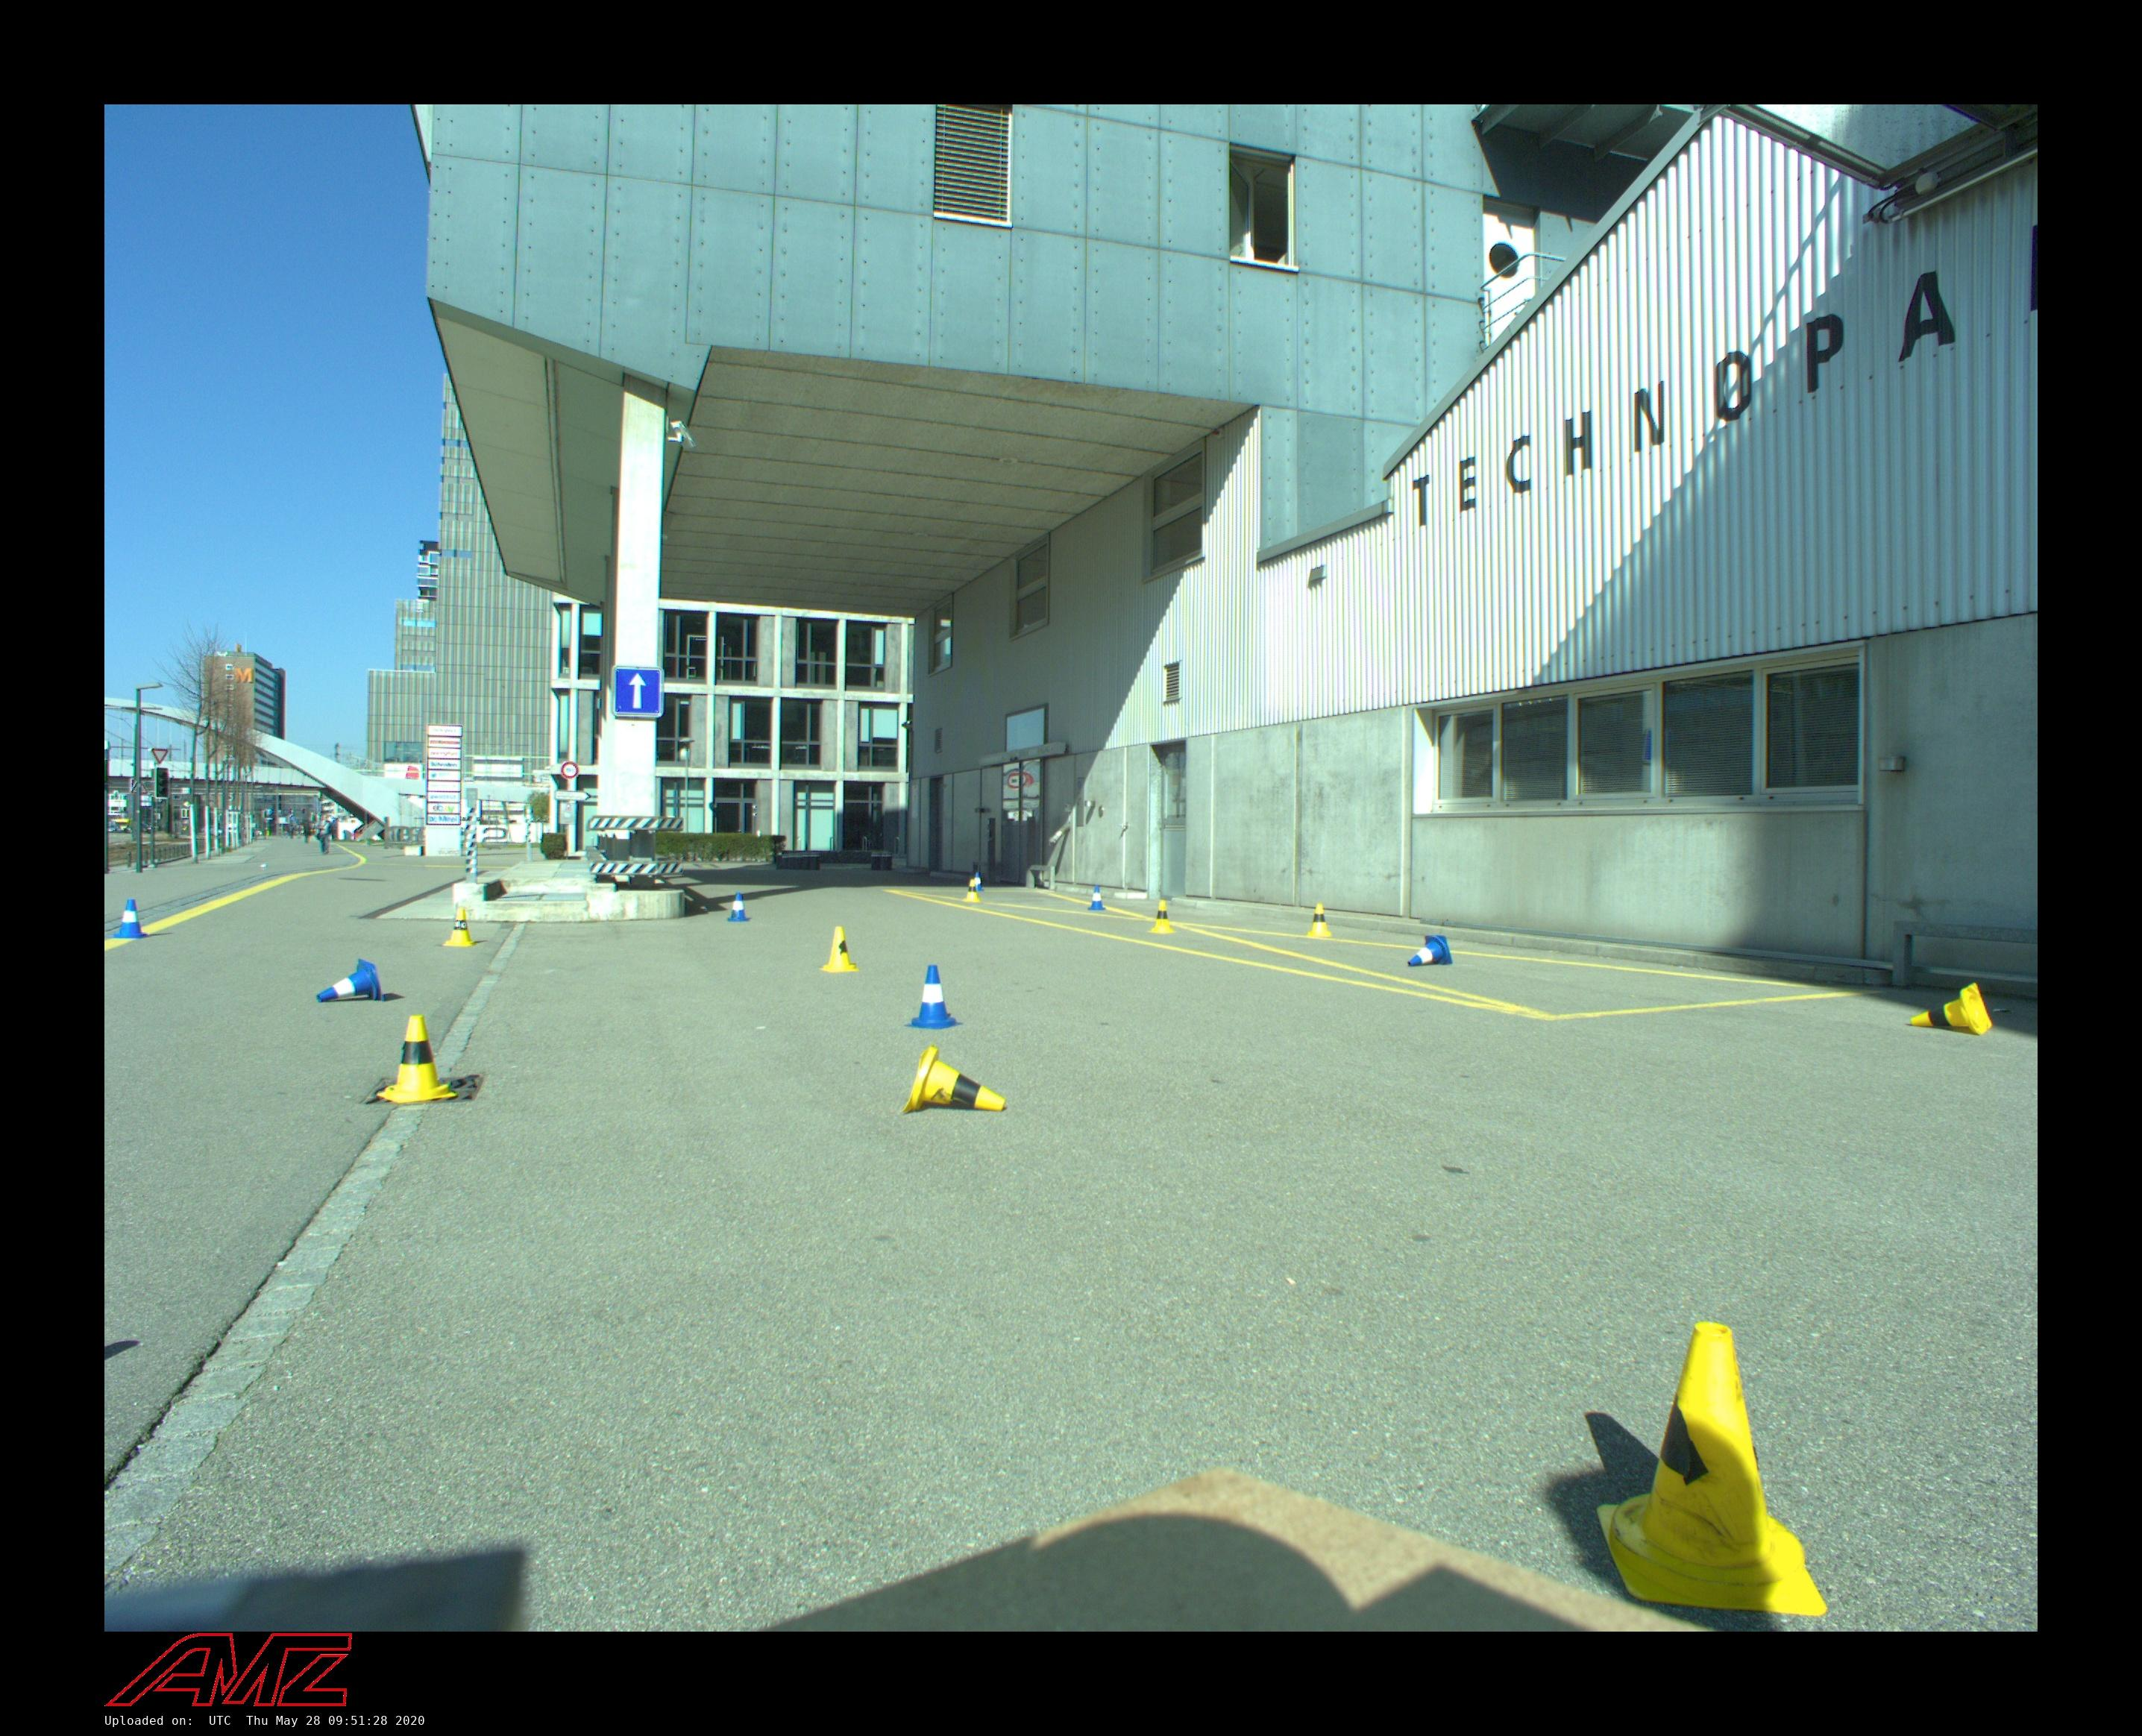blue_cone: (904, 965, 964, 1029), (315, 958, 384, 1003), (108, 900, 151, 939), (1407, 935, 1453, 967), (726, 891, 749, 921), (1088, 886, 1106, 911), (974, 872, 985, 891)
yellow_cone: (1596, 1321, 1827, 1617), (902, 1043, 1005, 1114), (376, 1015, 457, 1104), (1910, 983, 1991, 1036), (819, 926, 859, 973), (441, 909, 478, 948), (1148, 902, 1176, 934), (1308, 903, 1331, 937), (964, 879, 980, 902)
